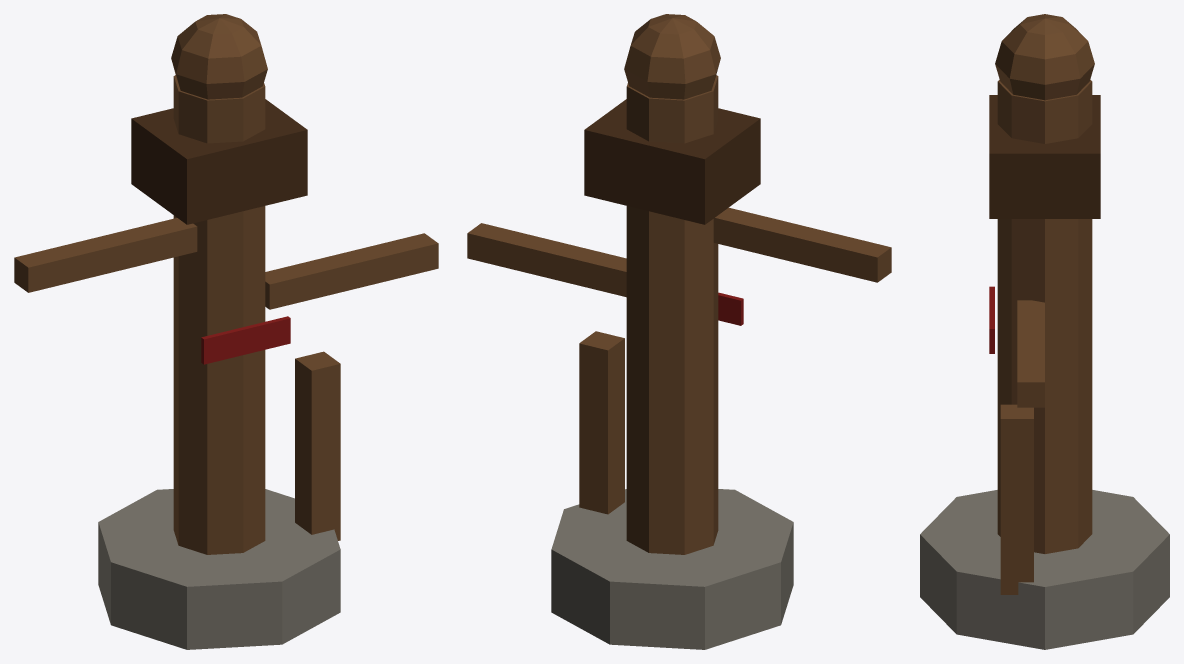
Rendered from wooden-training-dummy.glb.
3 renders of one model, left to right at view 1: azimuth 30°, elevation 25°; view 2: azimuth 150°, elevation 25°; view 3: azimuth 270°, elevation 25°, orthographic.
Visible parts, largest first — view 1: training-dummy; view 2: training-dummy; view 3: training-dummy.
Part boxes in pixels (bbox=[...]): training-dummy: bbox=[14, 14, 438, 649]; training-dummy: bbox=[467, 14, 891, 649]; training-dummy: bbox=[920, 14, 1169, 649].
Size of the model in its own units: 1.7 by 2.3 by 0.9.
